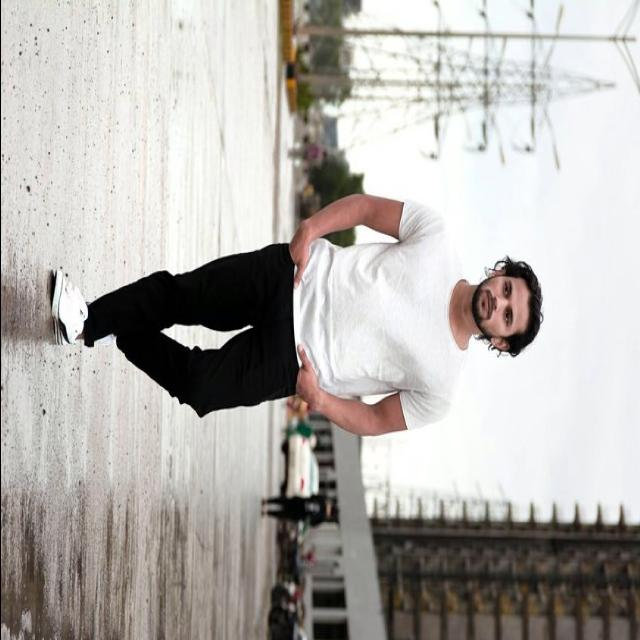shoulder: (408, 205, 456, 429)
